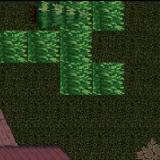Obstacle: (28, 0, 60, 29)
Slow: (61, 0, 92, 95), (0, 29, 60, 62), (92, 61, 124, 95), (92, 0, 124, 31)
